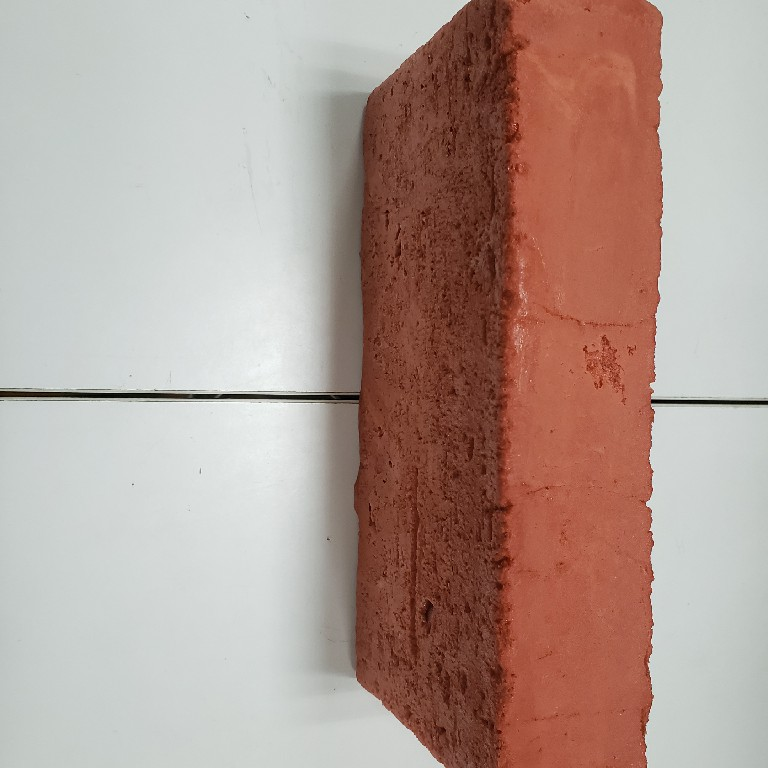brick: (345, 1, 668, 766)
